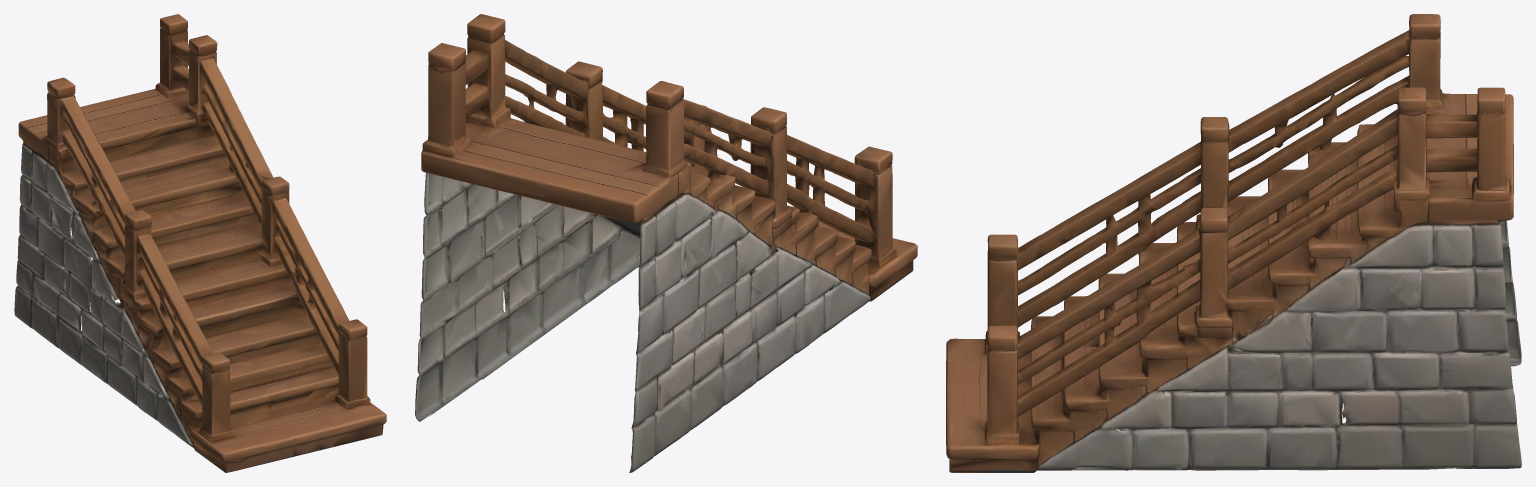
The model's file is stairs.glb.
3 views of the same model, side by side, from view 1: azimuth 30°, elevation 25°; view 2: azimuth 150°, elevation 25°; view 3: azimuth 270°, elevation 25° (orthographic). The views are drawn at different scales.
Visible parts, largest first — view 1: tripo_node_796308d7-fdff-403a-87b4-641e3b6de303; view 2: tripo_node_796308d7-fdff-403a-87b4-641e3b6de303; view 3: tripo_node_796308d7-fdff-403a-87b4-641e3b6de303.
Part boxes in pixels (x1,y1,x2,y2): tripo_node_796308d7-fdff-403a-87b4-641e3b6de303: [14, 14, 386, 472]; tripo_node_796308d7-fdff-403a-87b4-641e3b6de303: [415, 14, 917, 472]; tripo_node_796308d7-fdff-403a-87b4-641e3b6de303: [946, 14, 1521, 472].
Bounding box in the file's own units: 0.4531 × 0.7163 × 0.9997.
1 material, 1 textured.
